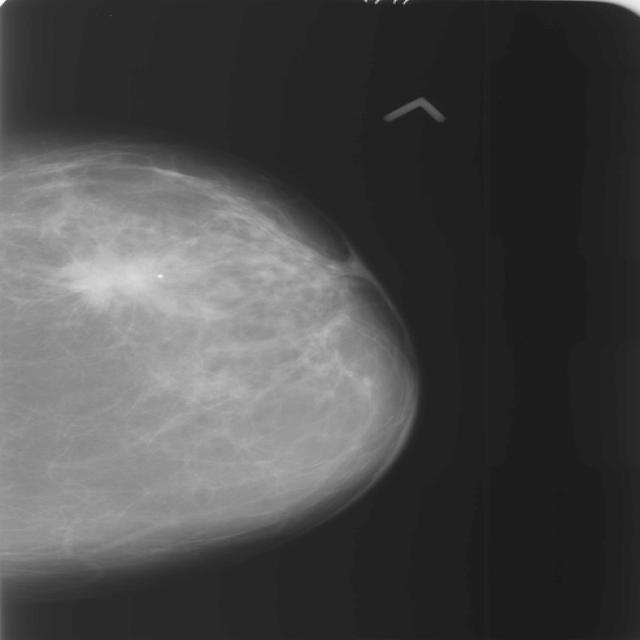tumour: (61, 250, 184, 308)
